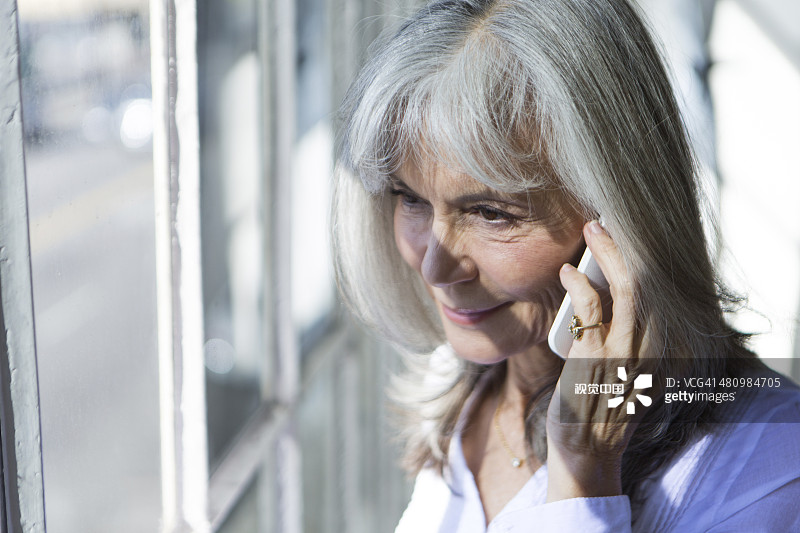calling: (526, 198, 696, 496)
